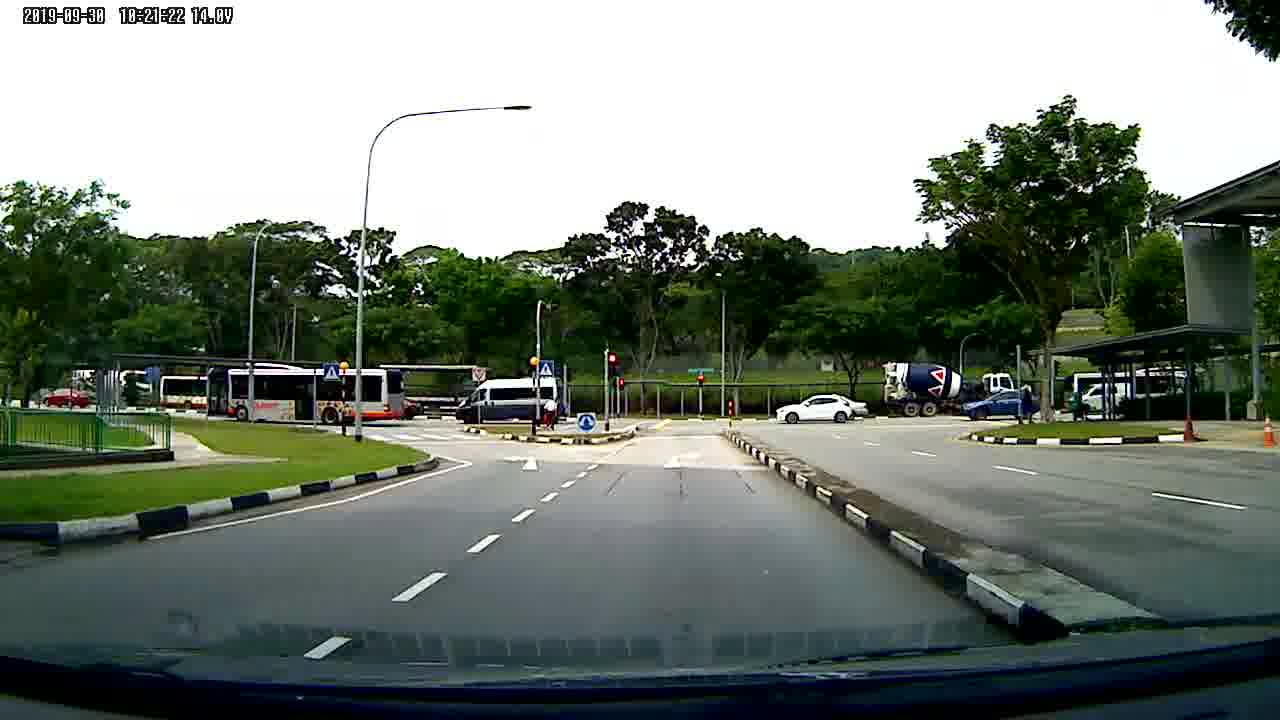bus: (205, 362, 408, 430)
car: (774, 394, 860, 433), (961, 388, 1044, 424), (38, 387, 100, 412)
